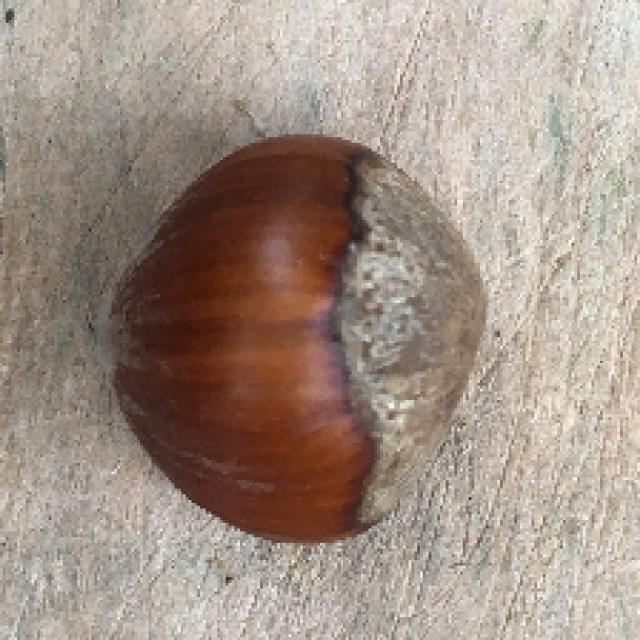qualityHazelnut: (101, 123, 489, 552)
